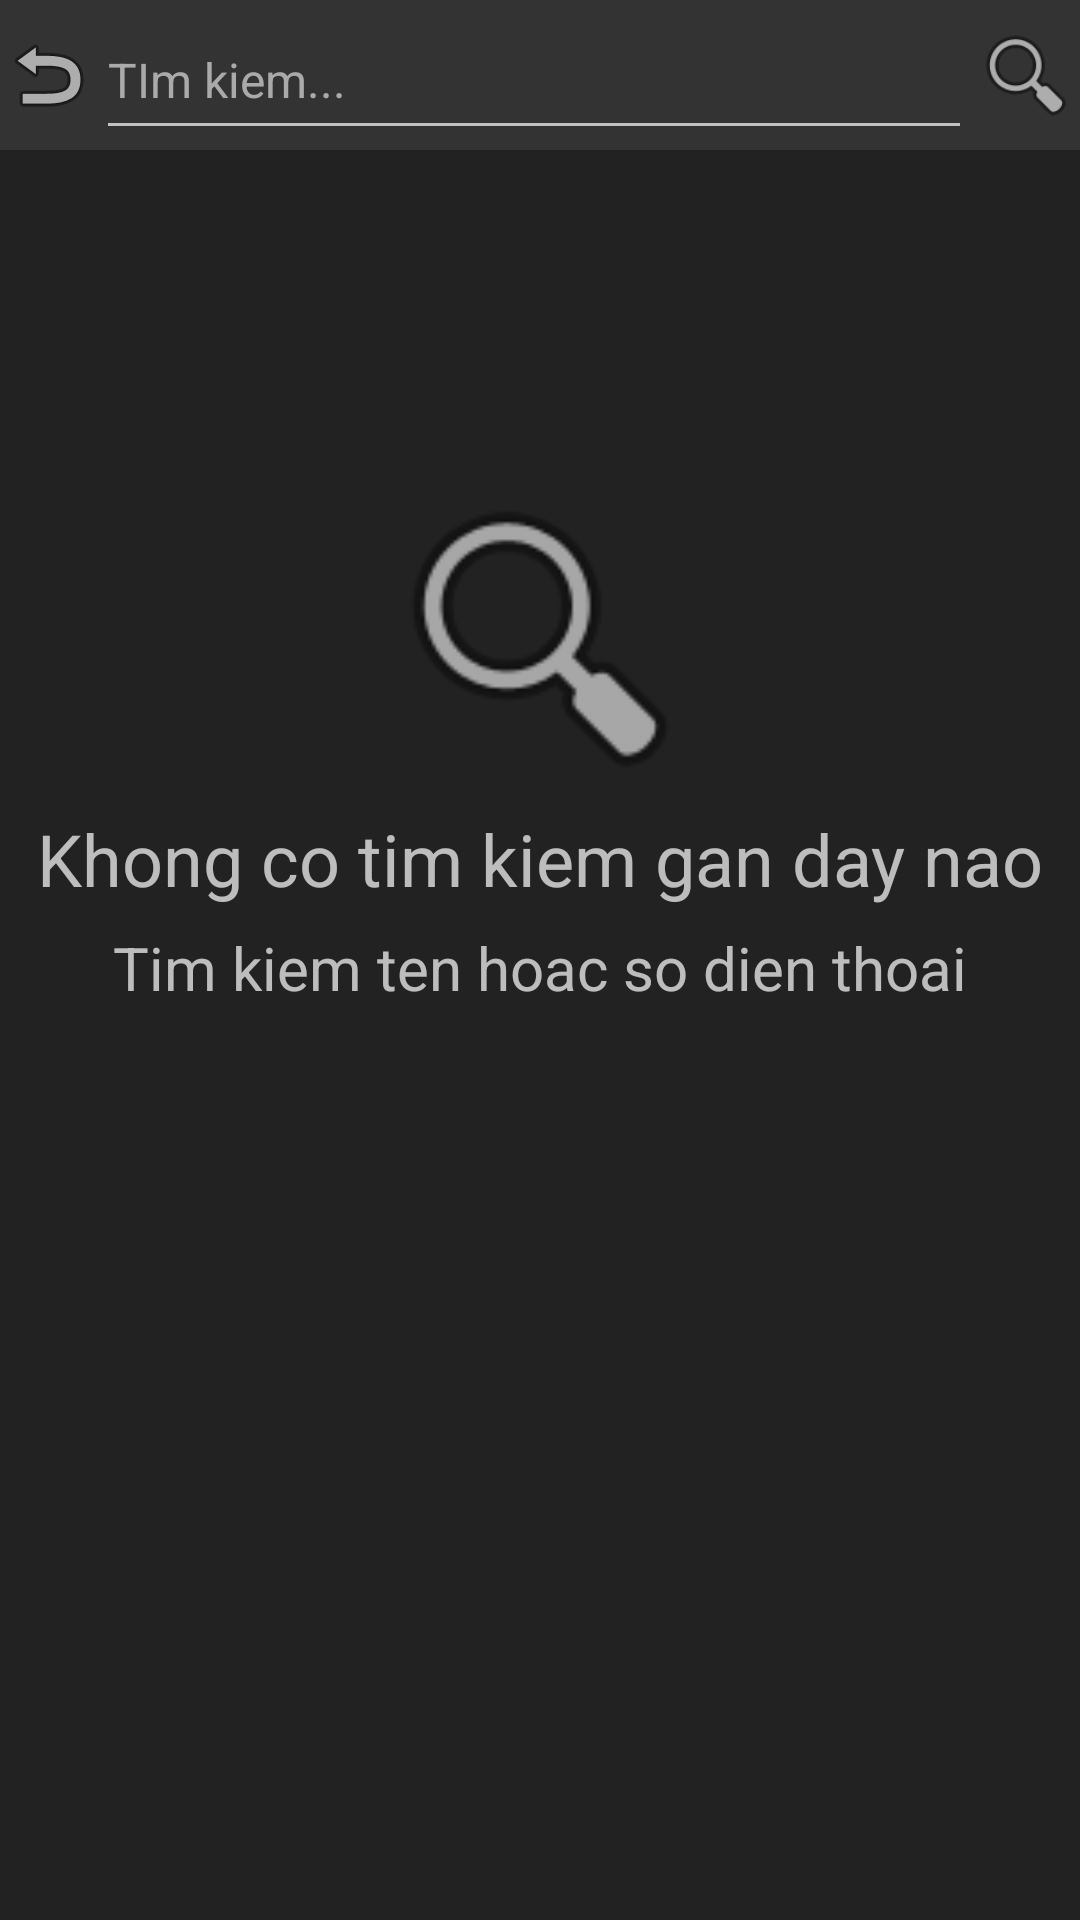

Point at icon controls on the screen. Image size 1080 x 1920, points as (x,y).
revert: (49,76)
search: (1026,75), (539,639)
